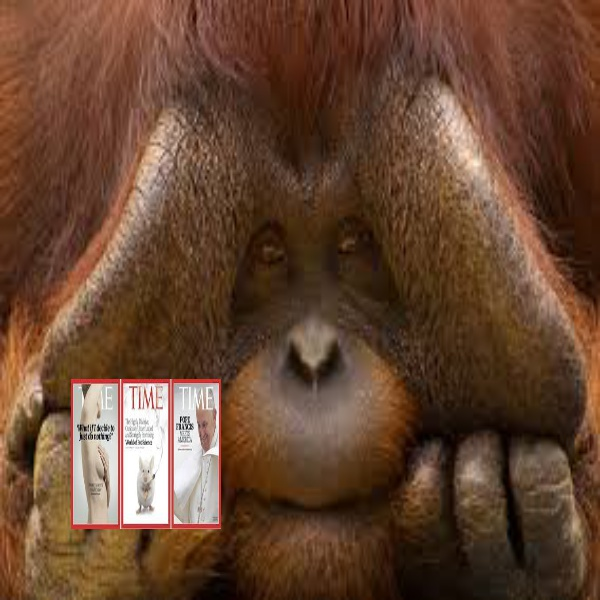time_cover: (176, 371, 226, 526), (67, 372, 112, 529), (124, 370, 164, 531)
